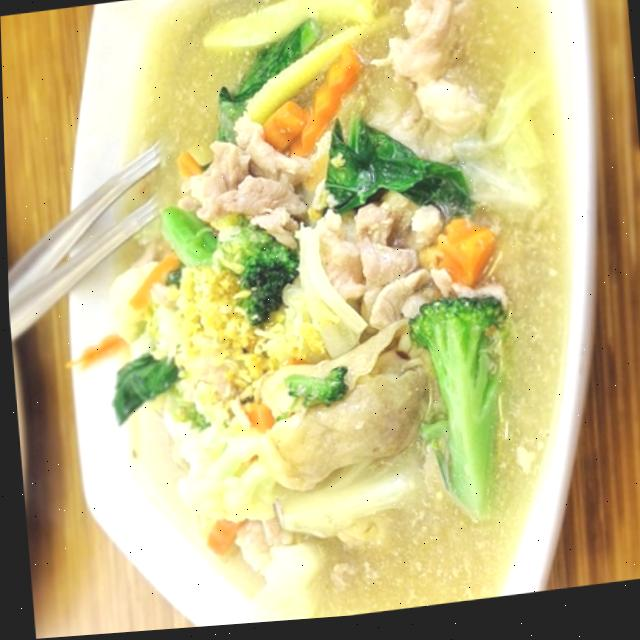面条主食: (21, 0, 640, 638)
